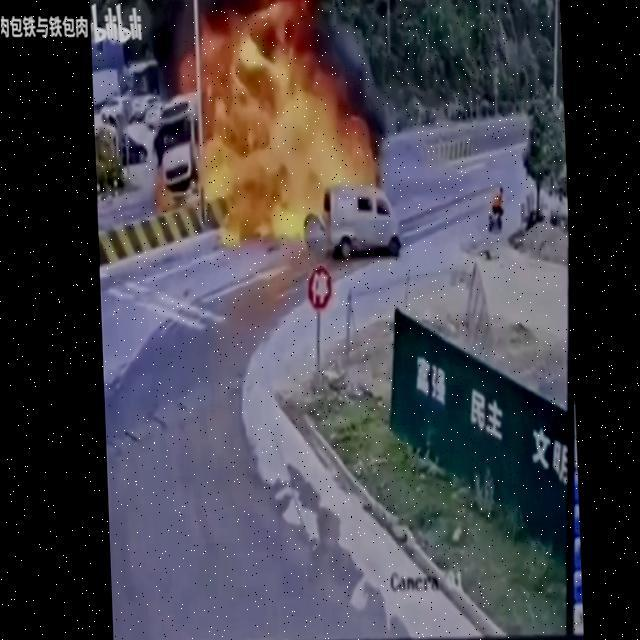multiple_accident: (197, 21, 383, 256)
